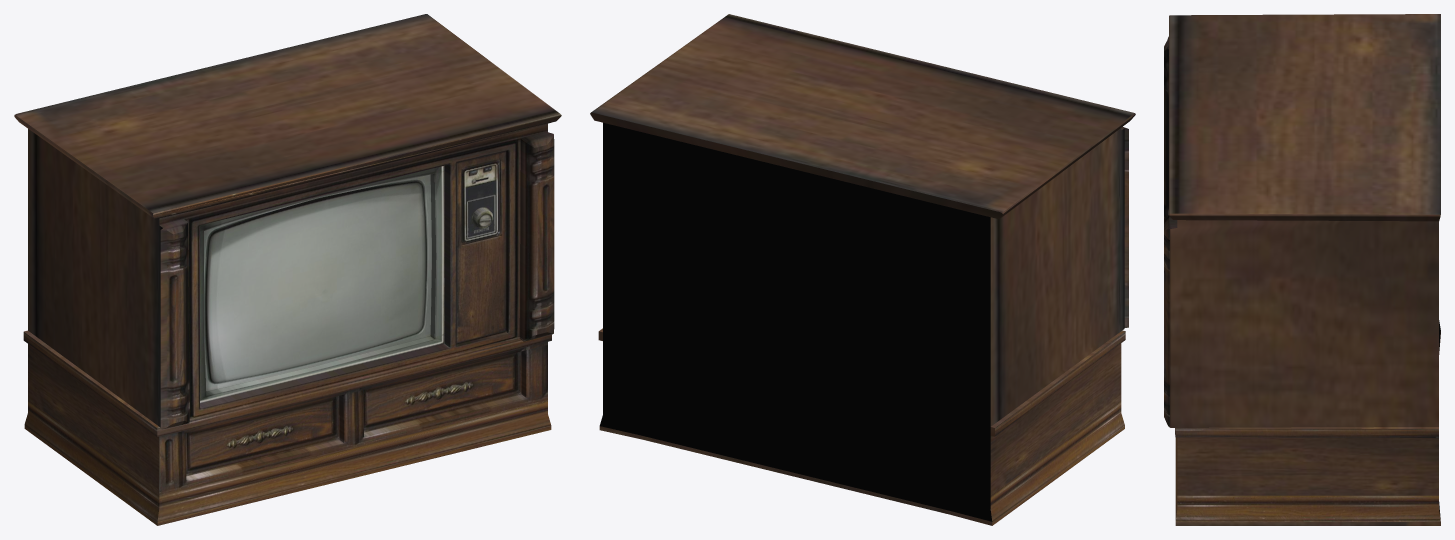
The model's file is Vintage_Television.glb.
3 views of the same model, side by side, from view 1: azimuth 30°, elevation 25°; view 2: azimuth 150°, elevation 25°; view 3: azimuth 270°, elevation 25° (orthographic).
Parts seen in each view (by area): view 1: TV_2_Zenith_1.007_0; view 2: TV_2_Black_Fill.007_0, TV_2_Zenith_1.007_0; view 3: TV_2_Zenith_1.007_0.
Part boxes in pixels (x1,y1,x2,y2): TV_2_Zenith_1.007_0: (14,14,561,525); TV_2_Black_Fill.007_0: (599,122,992,521); TV_2_Zenith_1.007_0: (590,14,1135,525); TV_2_Zenith_1.007_0: (1164,14,1440,525).
Size of the model in its own units: 1.36 by 0.9929 by 0.7883.
Materials: 2 (1 with a texture image).
